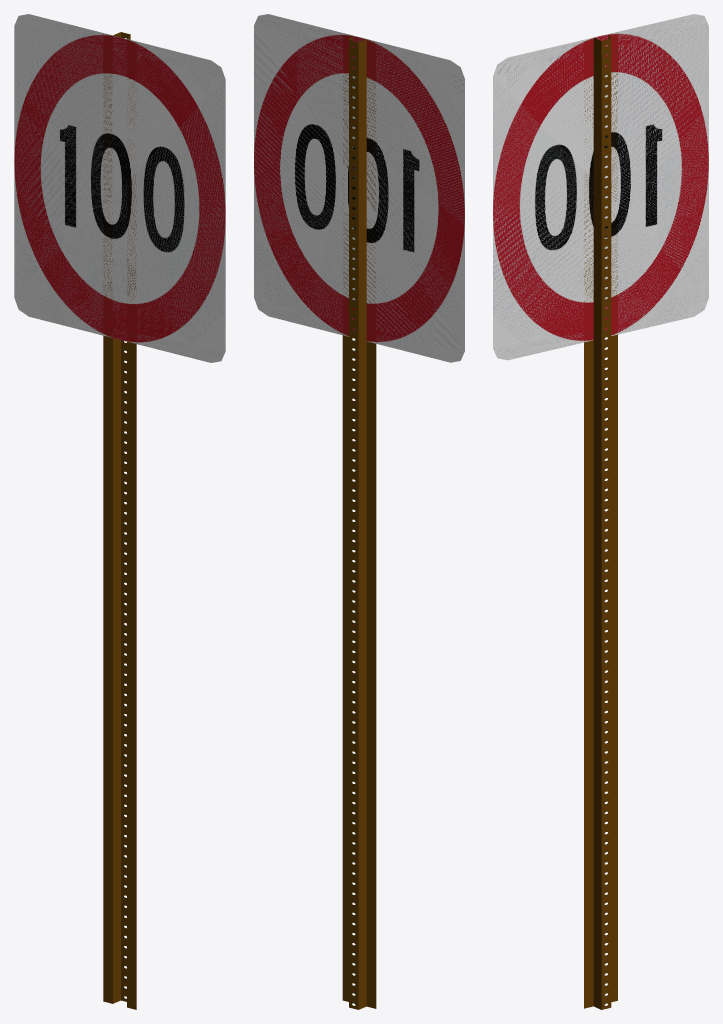
File: limit100.dae
3 renders of one model, left to right at view 1: azimuth 30°, elevation 25°; view 2: azimuth 210°, elevation 25°; view 3: azimuth 270°, elevation 25°, orthographic.
Parts seen in each view (by area): view 1: group_1, Component_11 (×2), Component_12, Component_10; view 2: group_1, Component_11 (×2), Component_10, Component_12; view 3: group_1, Component_11 (×2), Component_10, Component_12.
Part boxes in pixels (left/top/right/bottom): group_1: left=14, top=14, right=225, bottom=362; Component_11 (×2): left=103, top=335, right=136, bottom=1009; Component_12: left=113, top=32, right=120, bottom=1003; Component_10: left=121, top=32, right=130, bottom=1001; group_1: left=254, top=14, right=464, bottom=362; Component_11 (×2): left=342, top=335, right=376, bottom=1008; Component_10: left=349, top=40, right=358, bottom=1009; Component_12: left=358, top=39, right=366, bottom=1009; group_1: left=493, top=14, right=708, bottom=360; Component_11 (×2): left=584, top=334, right=617, bottom=1008; Component_10: left=601, top=39, right=611, bottom=1009; Component_12: left=593, top=38, right=601, bottom=1009.
Size of the model in its own units: 10.72 by 19.37 by 96.
Materials: 4 (4 with a texture image).
